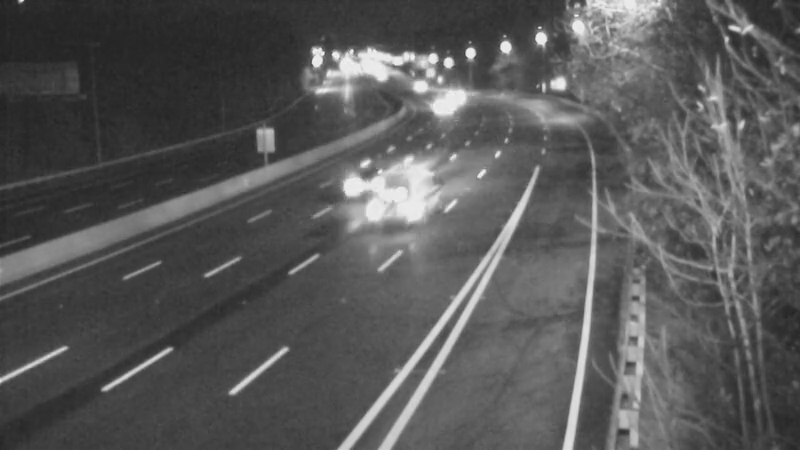vehicle: (322, 145, 402, 225), (352, 164, 432, 244), (391, 62, 441, 112), (429, 69, 479, 119), (414, 81, 464, 131)
